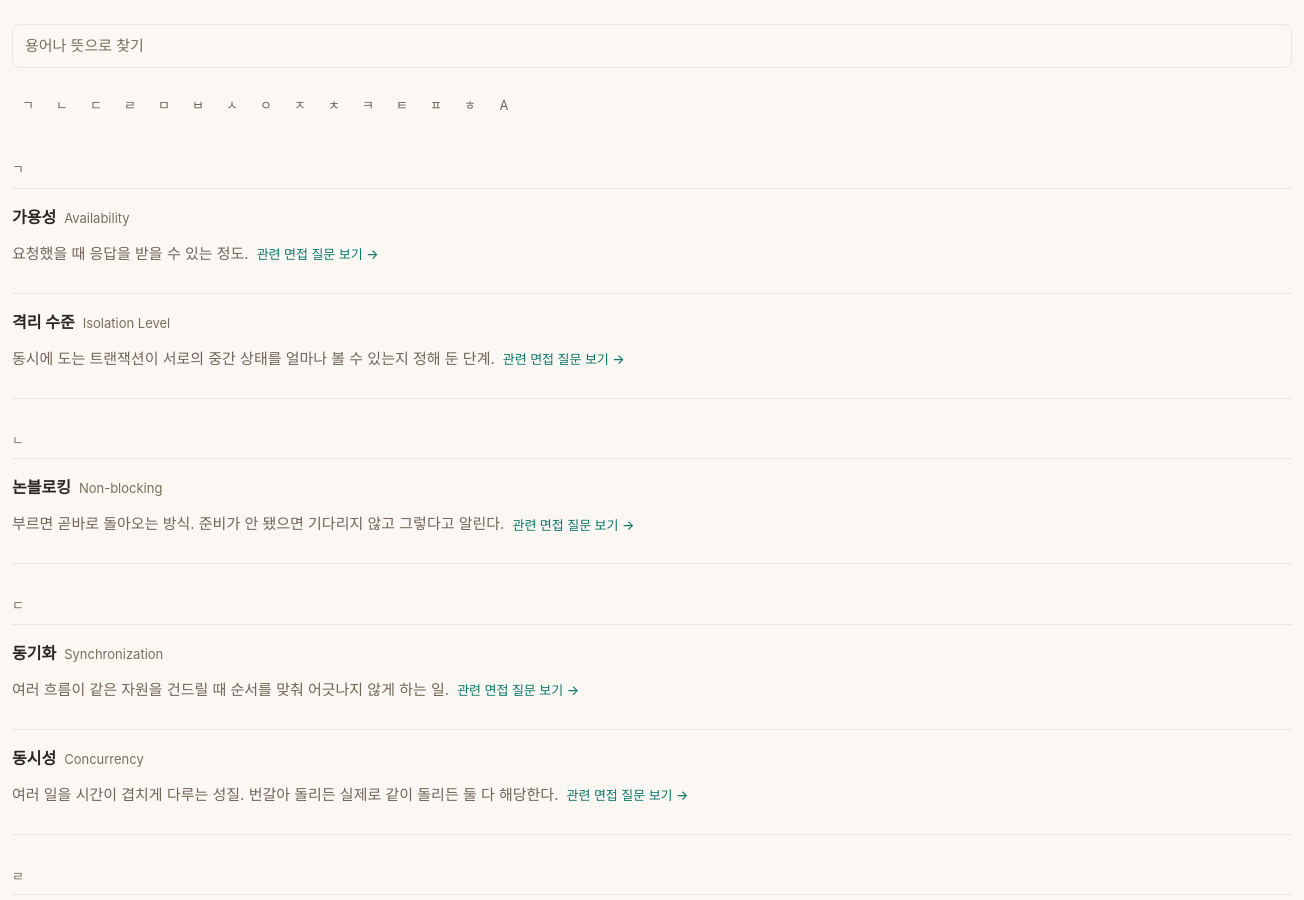
Scenario: 용어 사전 검색 › 없으면 없다고 말한다
In the search field named "용어 검색": {"x": 652, "y": 46} top-left (12, 24), bottom-right (1292, 68), type "없는말입니다"
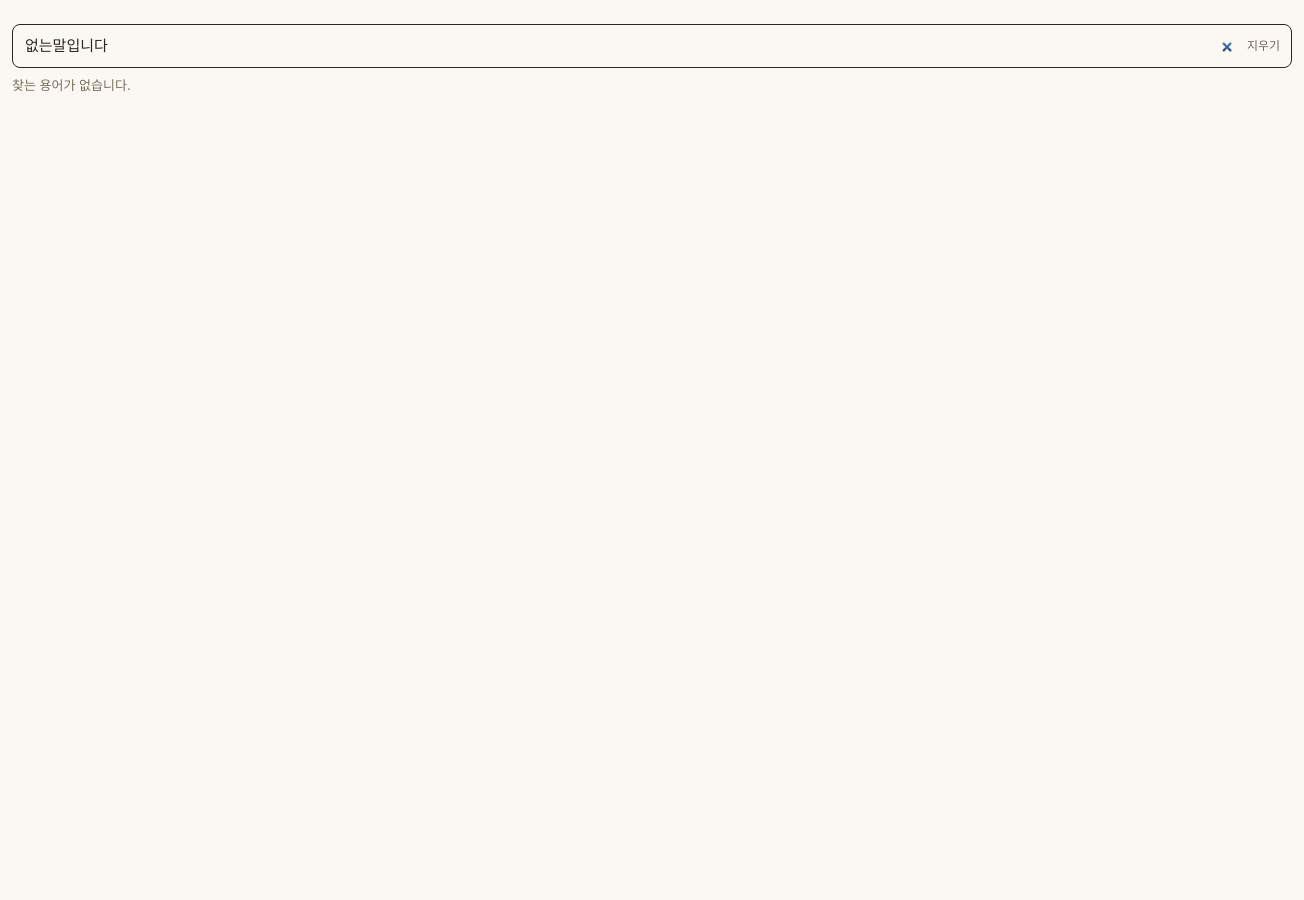
expect the message shows "찾는 용어가 없습니다": met, box top-left (12, 77), bottom-right (131, 93)
